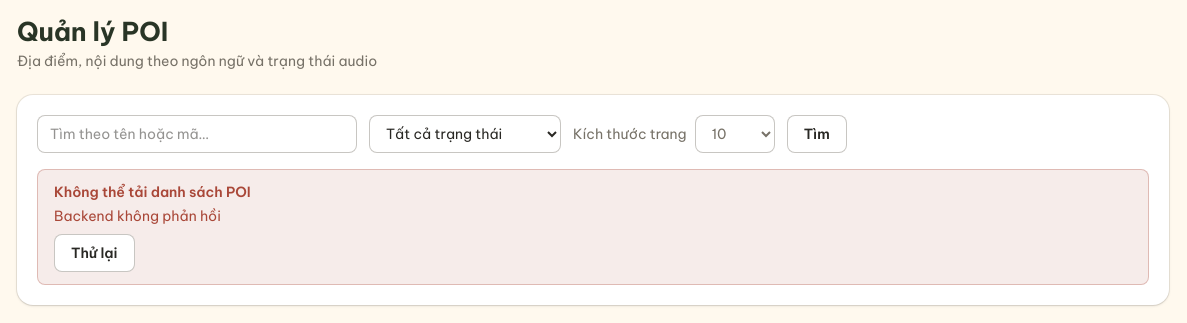
PoiListPage › shows an API error and retries on request
Expected: the message shows "Backend không phản hồi", [54,207,221,225]
Click the button "Thử lại".
click(94, 253)  # box [54,234,134,272]
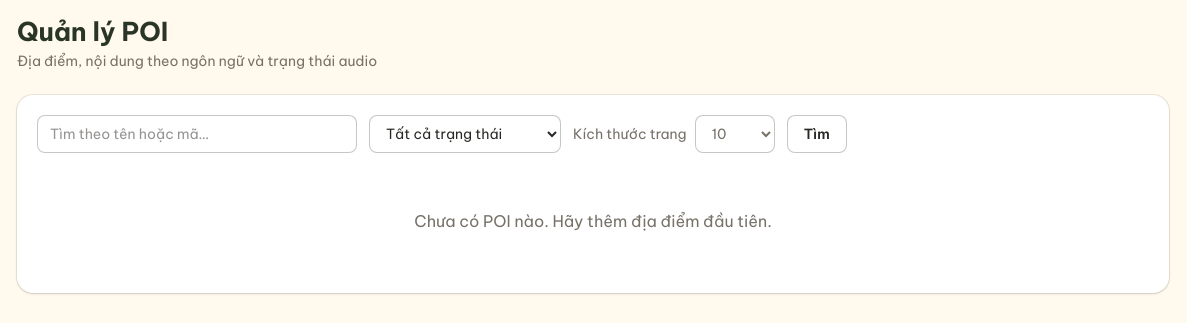
Expected: the text "Chưa có POI nào. Hãy thêm địa điểm đầu tiên." is shown, [414,211,772,231]
